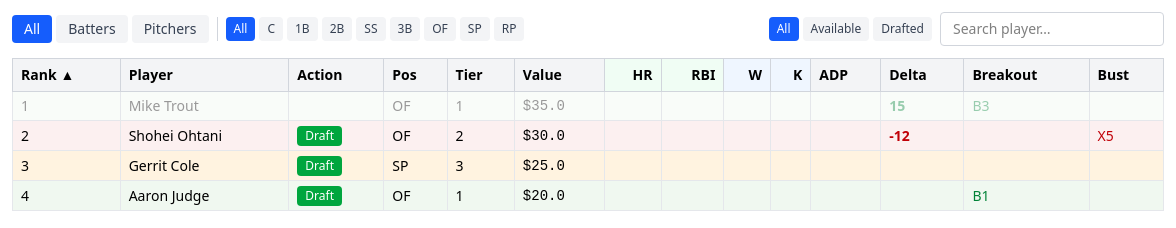
Test: DraftBoardTable › filters by status (Drafted)
Click the button "Drafted": (903, 29) [873, 17, 932, 41]
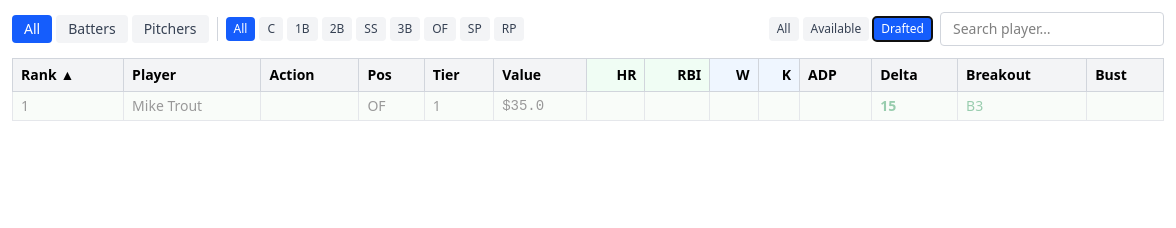
Expected: the text "Mike Trout" is shown, [124, 92, 261, 120]
Expected: the text "Shohei Ohtani" is gone
